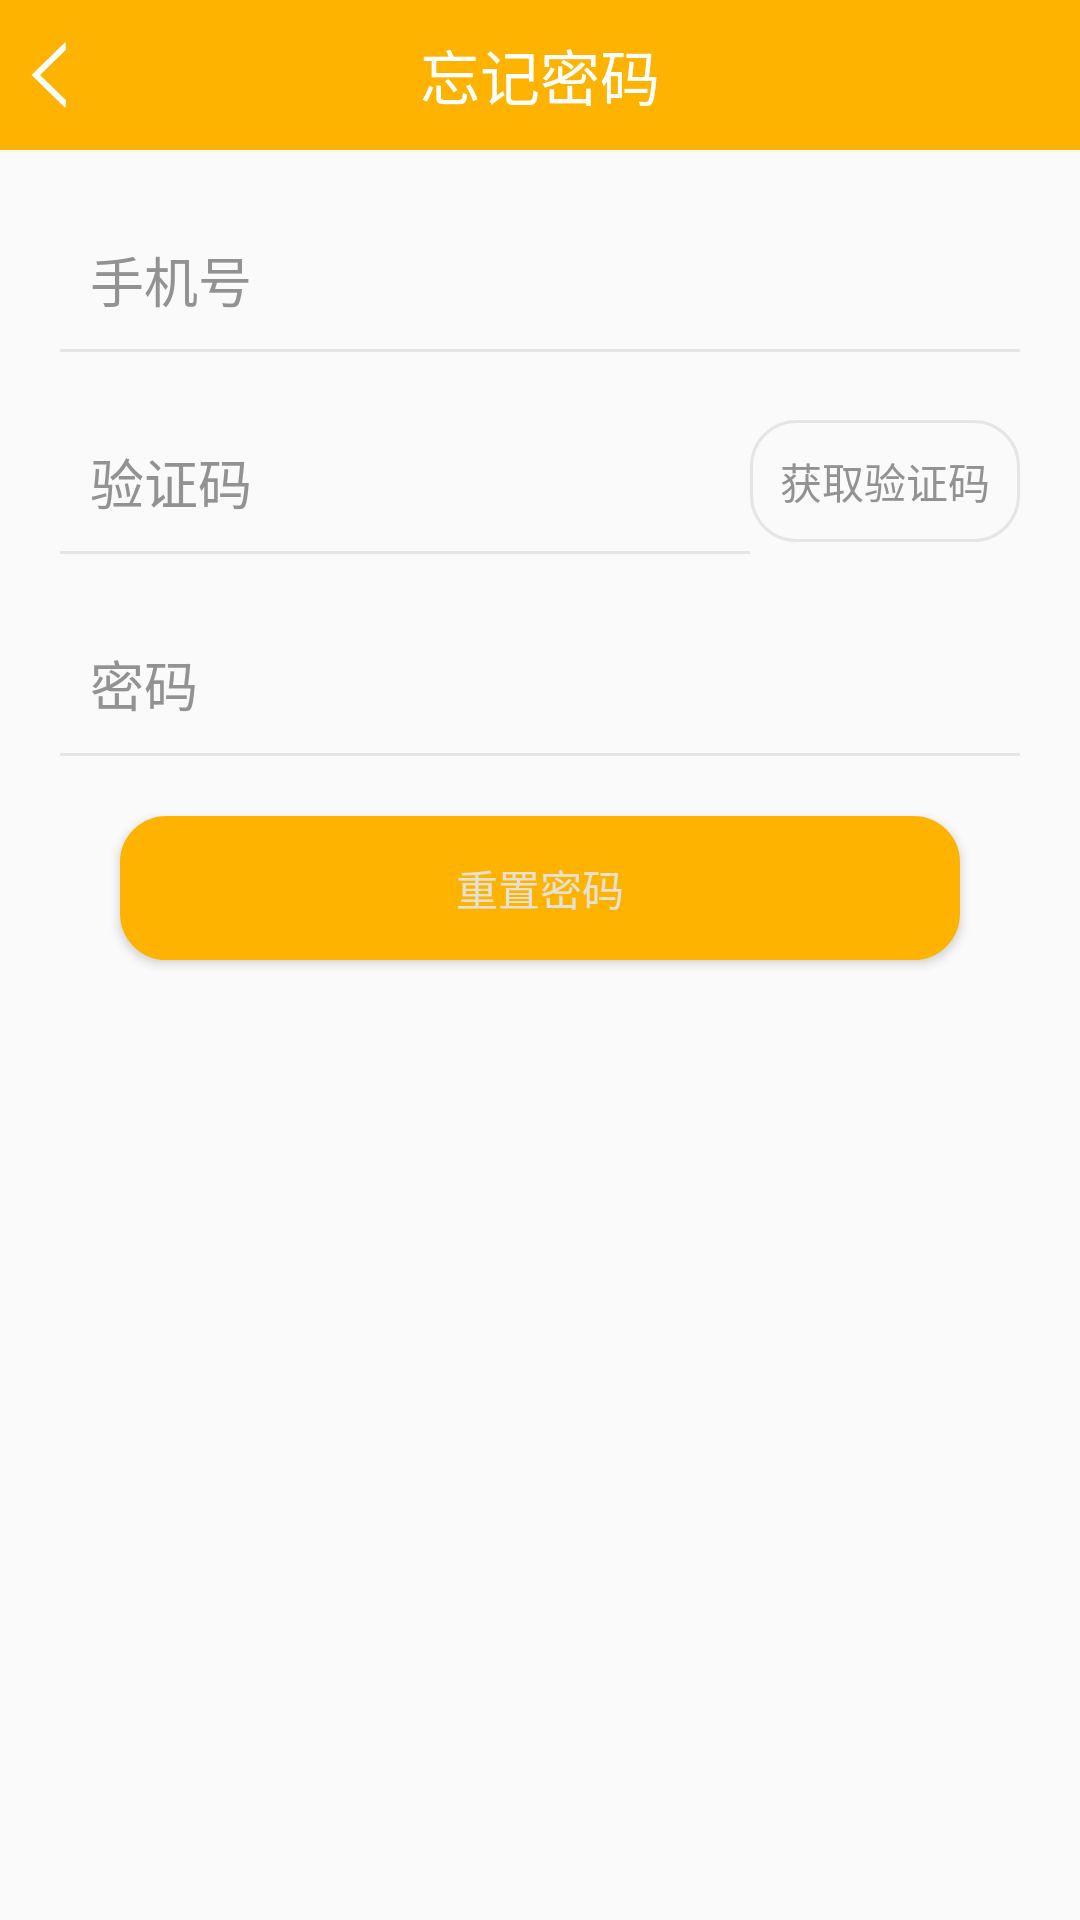

Named icons in this screenshot (1080 x 1920) and their centers, (x=x, y=y):
back: (x=48, y=75)
